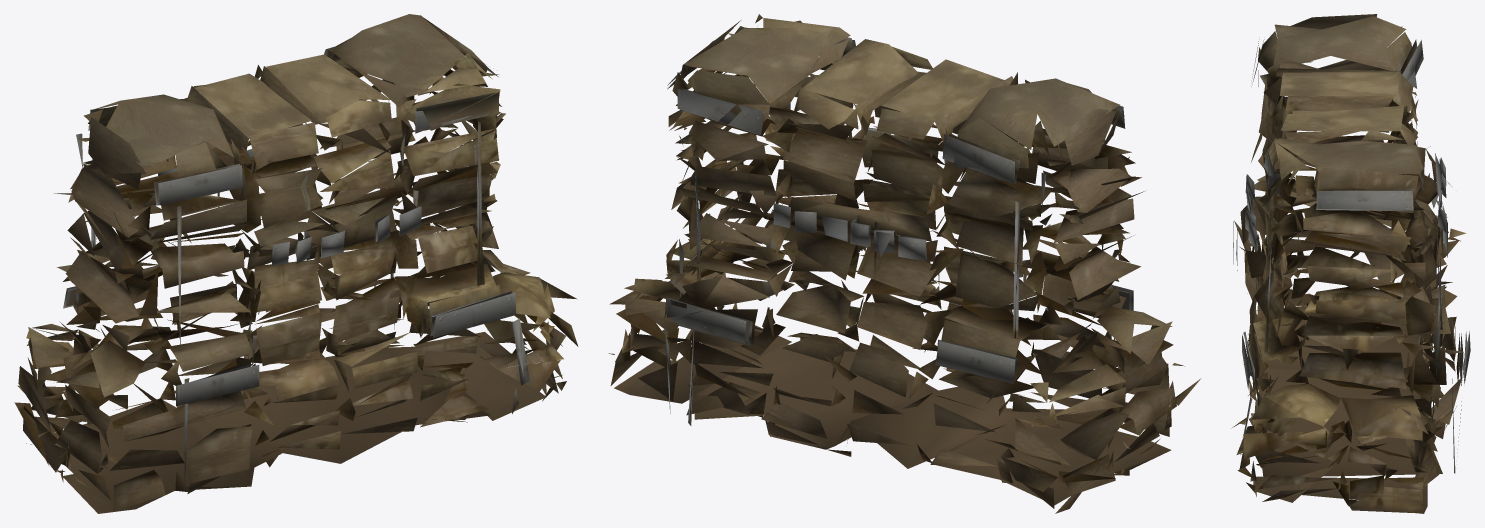
Rendered from ch5_meridian_cover_barricade_LOD3.glb.
3 views of the same model, side by side, from view 1: azimuth 30°, elevation 25°; view 2: azimuth 150°, elevation 25°; view 3: azimuth 270°, elevation 25° (orthographic). The views are drawn at different scales.
Visible parts, largest first — view 1: tripo_node_fae5ff56-c19d-4cb0-980b-bed445a09fcc; view 2: tripo_node_fae5ff56-c19d-4cb0-980b-bed445a09fcc; view 3: tripo_node_fae5ff56-c19d-4cb0-980b-bed445a09fcc.
Part boxes in pixels (bbox=[...]): tripo_node_fae5ff56-c19d-4cb0-980b-bed445a09fcc: bbox=[14, 14, 578, 513]; tripo_node_fae5ff56-c19d-4cb0-980b-bed445a09fcc: bbox=[608, 14, 1201, 513]; tripo_node_fae5ff56-c19d-4cb0-980b-bed445a09fcc: bbox=[1231, 14, 1470, 513].
Size of the model in its own units: 1.02 by 0.6961 by 0.4588.
Materials: 1 (1 with a texture image).
